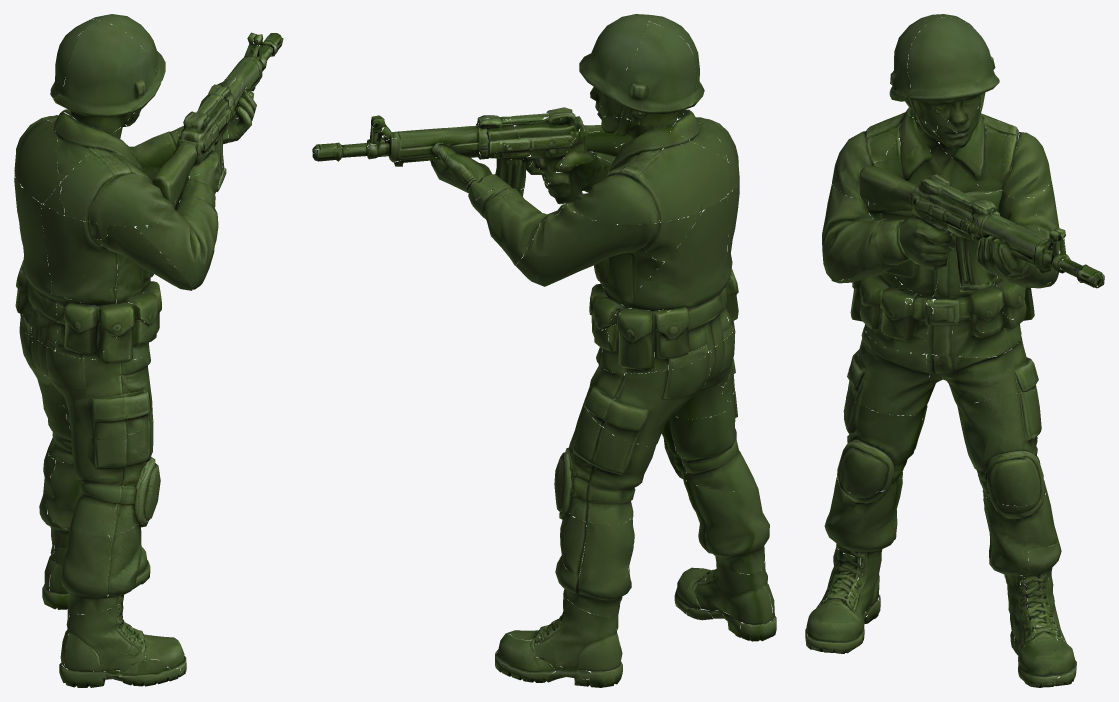
File: soldado.glb
The picture shows the model from 3 angles, left to right: view 1: azimuth 30°, elevation 25°; view 2: azimuth 150°, elevation 25°; view 3: azimuth 270°, elevation 25°; orthographic projection. The views are drawn at different scales.
Parts seen in each view (by area): view 1: tripo_node_54fd1f66-8fbb-40c3-b173-d55ae42b3a80; view 2: tripo_node_54fd1f66-8fbb-40c3-b173-d55ae42b3a80; view 3: tripo_node_54fd1f66-8fbb-40c3-b173-d55ae42b3a80.
Boxes of the visible parts, x1=… form: tripo_node_54fd1f66-8fbb-40c3-b173-d55ae42b3a80: x1=14, y1=14, x2=283, y2=687; tripo_node_54fd1f66-8fbb-40c3-b173-d55ae42b3a80: x1=312, y1=14, x2=776, y2=687; tripo_node_54fd1f66-8fbb-40c3-b173-d55ae42b3a80: x1=805, y1=14, x2=1104, y2=687.
Size of the model in its own units: 0.5598 by 0.9788 by 0.4232.
Materials: 1 (1 with a texture image).
